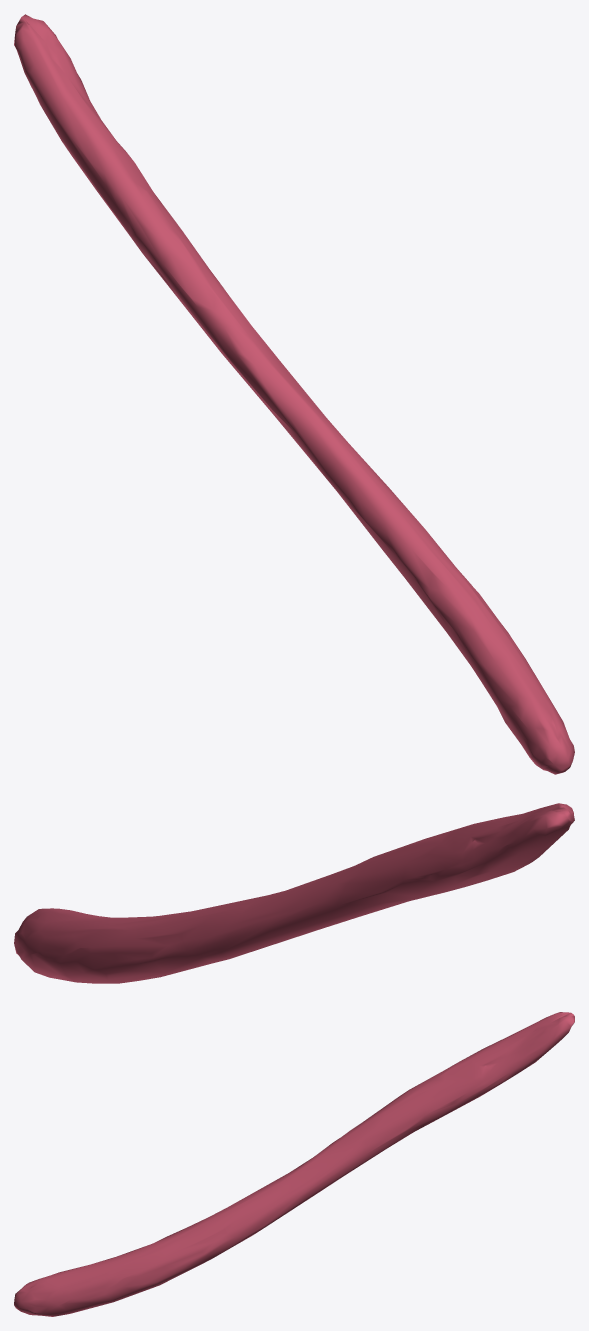
3 views of the same model, one above another, from view 1: azimuth 30°, elevation 25°; view 2: azimuth 210°, elevation 25°; view 3: azimuth 270°, elevation 25° (orthographic). The views are drawn at different scales.
Visible parts, largest first — view 1: 左侧杓会厌肌; view 2: 左侧杓会厌肌; view 3: 左侧杓会厌肌.
Boxes of the visible parts, x1,y1,x2,y2 form: 左侧杓会厌肌: [14, 14, 574, 774]; 左侧杓会厌肌: [14, 803, 574, 983]; 左侧杓会厌肌: [14, 1012, 574, 1316].
Size of the model in its own units: 0.00625 by 0.0186 by 0.0345.
